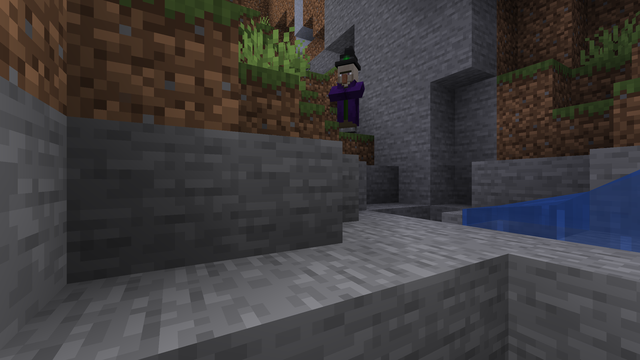sorcieres: (333, 59, 361, 134)
